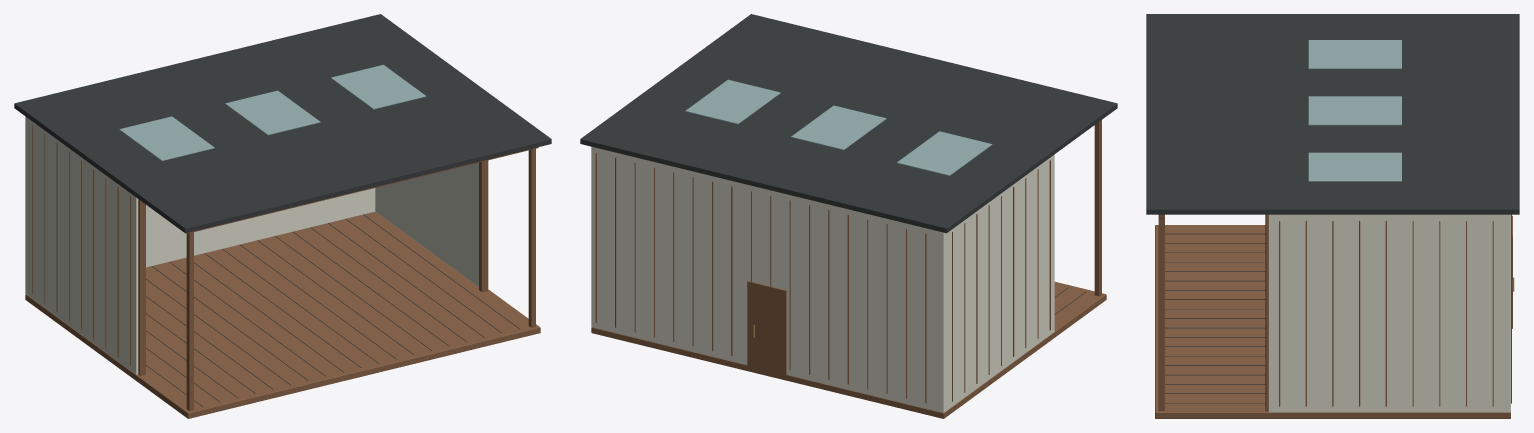
File: clockmaker-and-watch-repair-roofed-clockmaker-shop-d182743f__30644.glb
3 views of the same model, side by side, from view 1: azimuth 30°, elevation 25°; view 2: azimuth 150°, elevation 25°; view 3: azimuth 270°, elevation 25° (orthographic). The views are drawn at different scales.
Visible parts, largest first — view 1: roofed-clockmaker-shop; view 2: roofed-clockmaker-shop; view 3: roofed-clockmaker-shop.
Part boxes in pixels (<box>): roofed-clockmaker-shop: <box>14,14,551,418</box>; roofed-clockmaker-shop: <box>580,14,1117,418</box>; roofed-clockmaker-shop: <box>1146,14,1519,418</box>.
Bounding box in the file's own units: 10.4 × 5.33 × 8.4.
